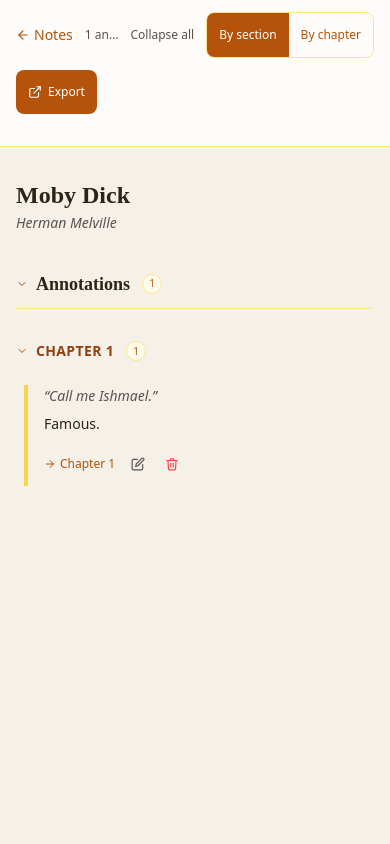
Scenario: clicking Undo in annotation delete toast restores the annotation (line 347)
Expected: the text "“Call me Ishmael.”" is shown, [44, 386, 157, 405]
Click the button named "Delete annotation: Call me Ishmael." at (172, 464), box [161, 442, 183, 486]
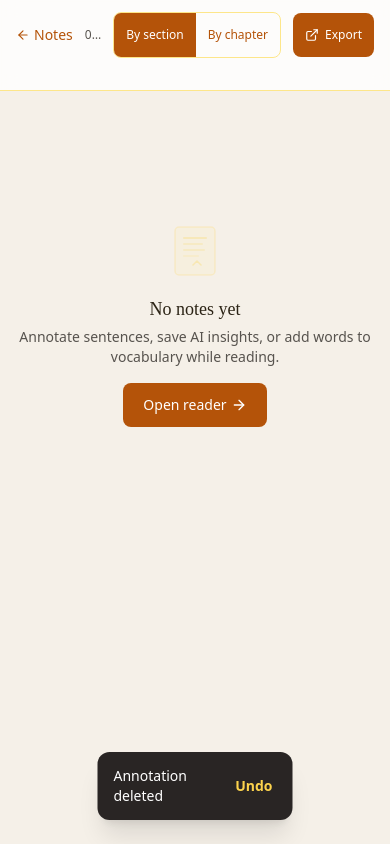
Now the text "Call me Ishmael" is gone
Now the text "Annotation deleted" is shown, box [114, 766, 187, 805]
Click the button "Undo" at (254, 786), box [231, 764, 276, 808]
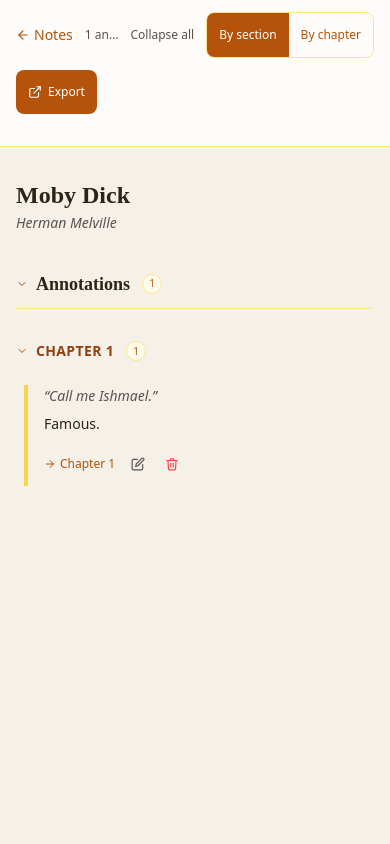
Now the text "“Call me Ishmael.”" is shown, box [44, 386, 157, 405]
